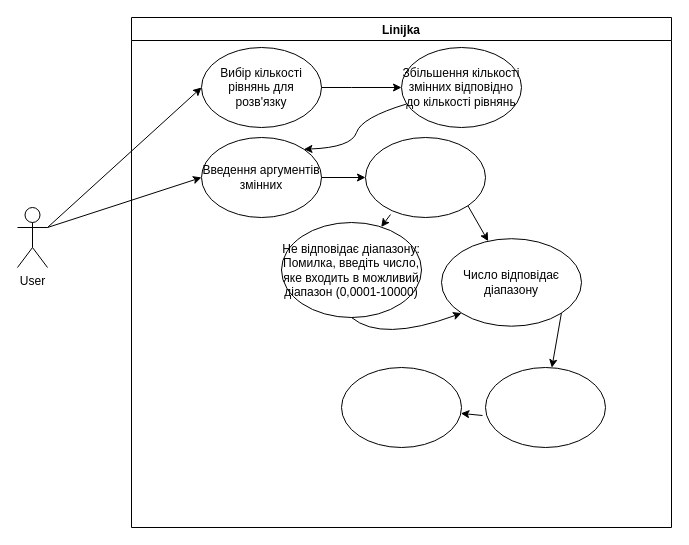
This 689x545 diagram has some shape labels left out. The shapes that lost their labels are listed below. From the top down, each one's centre as x and y in pixels, then its label:
At (x=425, y=177): "Перевірка відповідності заданих елементів до їх можливого діапазону".
At (x=401, y=407): "Перегляд поетапного розгляду рішення".
At (x=545, y=407): "Отримання рішення рівняння".
